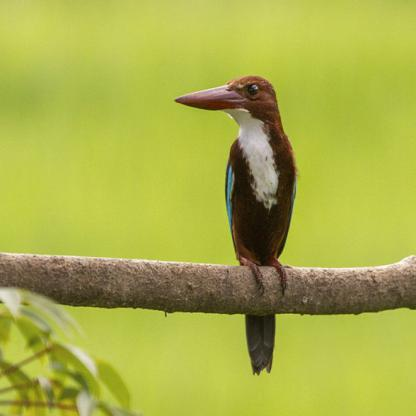Burung: (174, 75, 296, 374)
